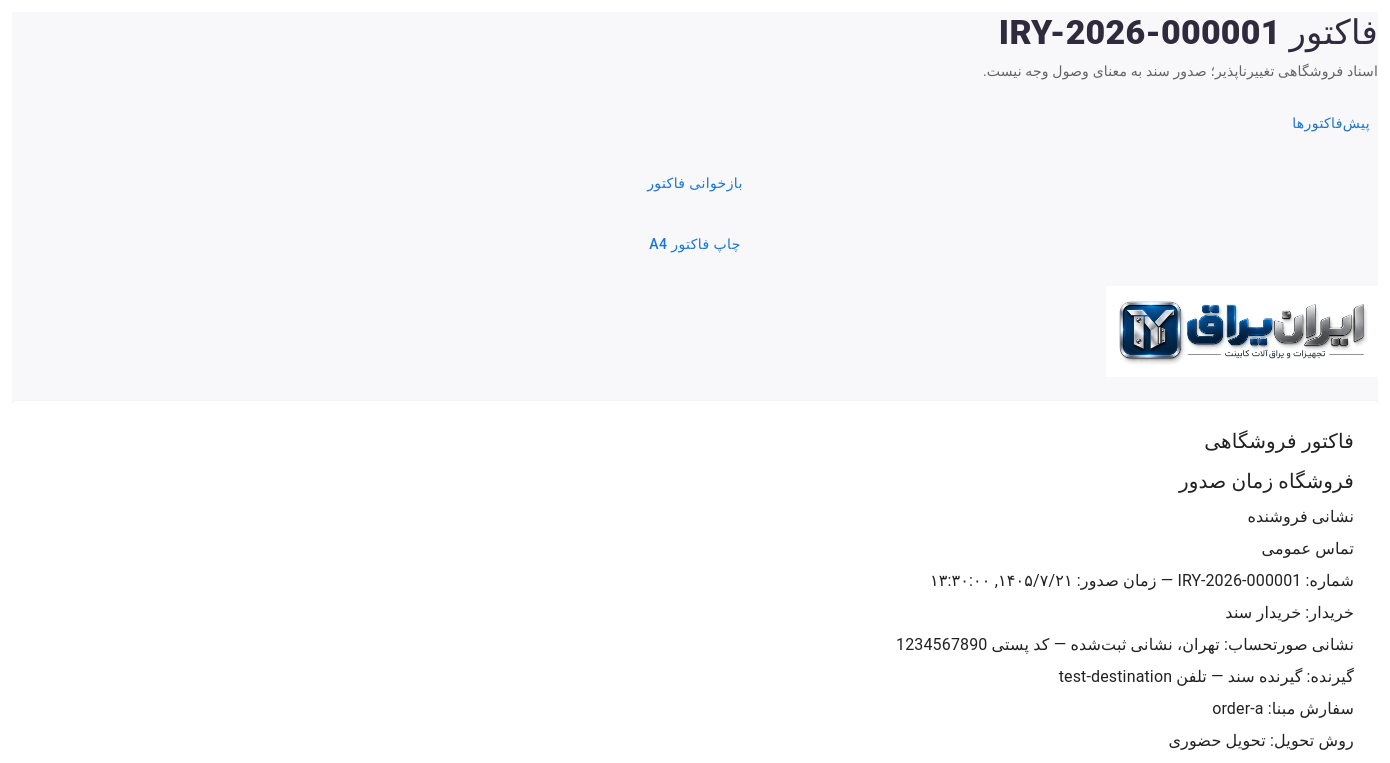
Test: immutable issued invoice views › asset failure is explicit and cannot open a blank/falsely ready print
Expected: the heading "فاکتور IRY-2026-000001" is shown, [983,12,1378,53]
Click the button "چاپ فاکتور A4": (695, 244) [12,226,1378,262]
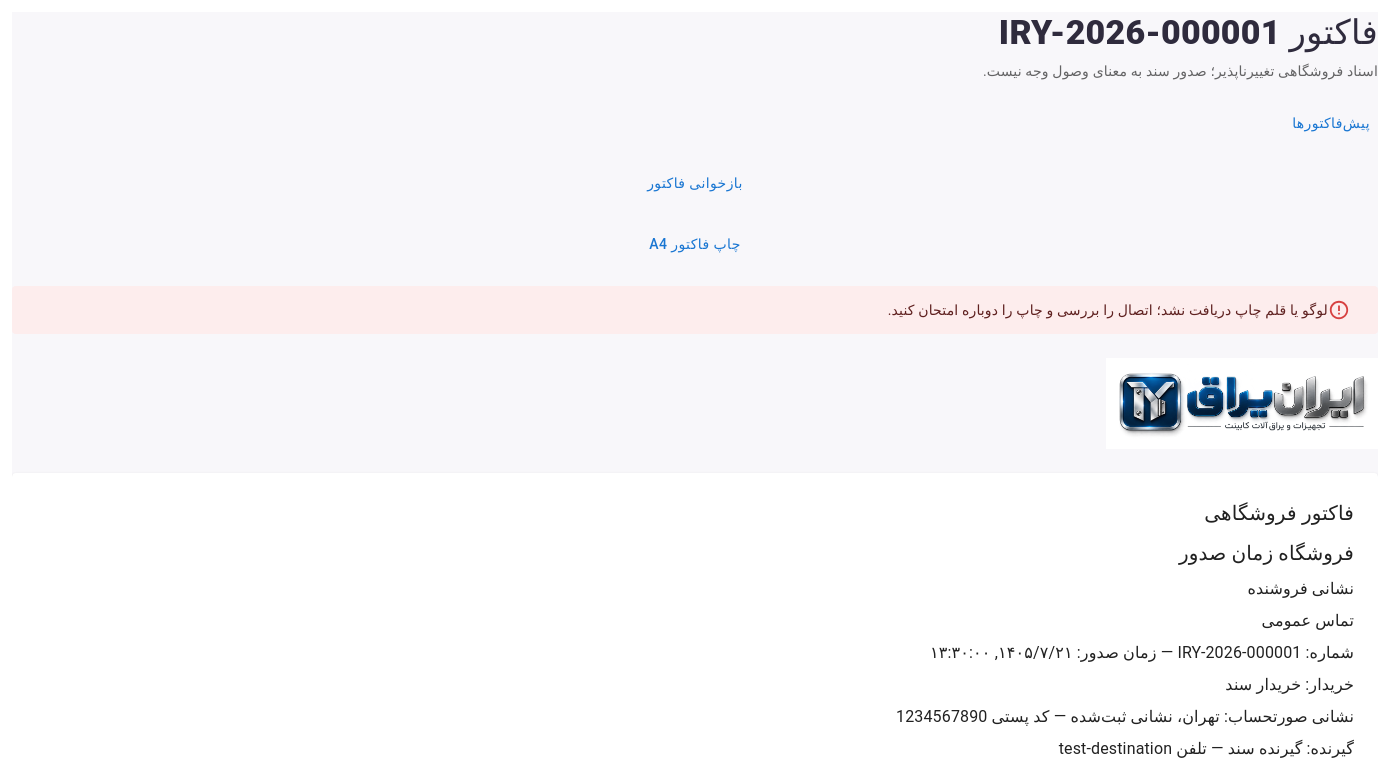
Result: the text "لوگو یا قلم چاپ دریافت نشد" is shown at [888,302,1328,318]
